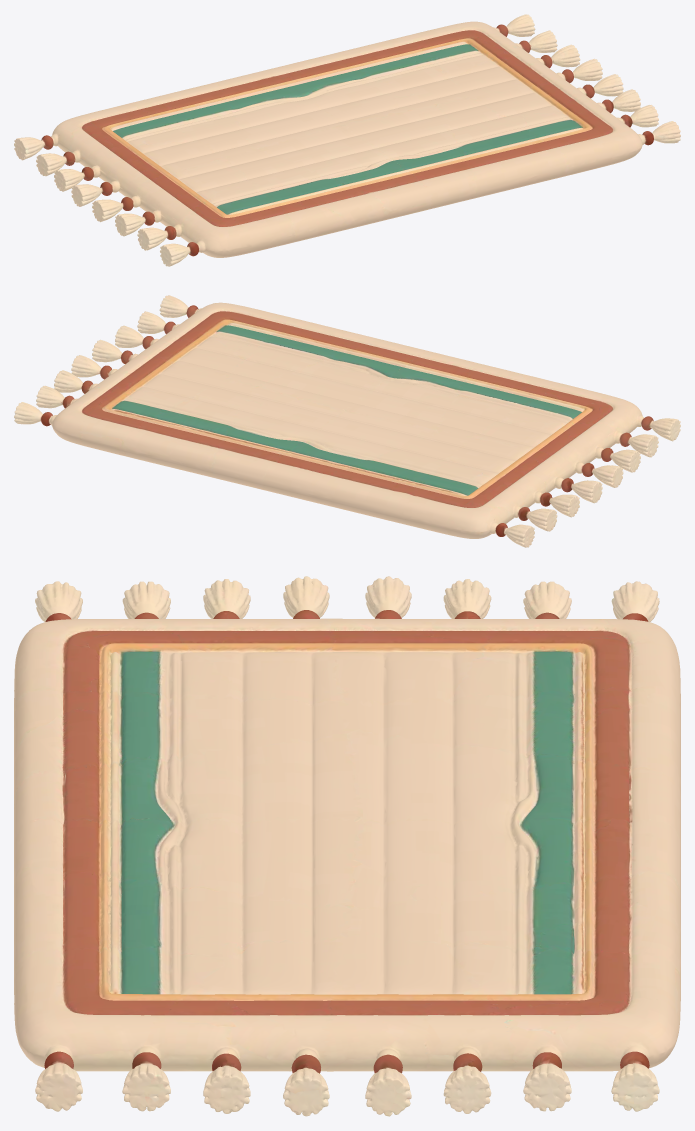
The model's file is prayer-rug-variant-08-cream-scalloped-mihrab.glb.
The picture shows the model from 3 angles, top to bottom: view 1: azimuth 30°, elevation 25°; view 2: azimuth 150°, elevation 25°; view 3: azimuth 270°, elevation 25°; orthographic projection. The views are drawn at different scales.
Parts seen in each view (by area): view 1: mesh_node; view 2: mesh_node; view 3: mesh_node.
Boxes of the visible parts, <box> form: mesh_node: <box>14,14,680,266</box>; mesh_node: <box>14,295,680,547</box>; mesh_node: <box>14,576,680,1116</box>.
Size of the model in its own units: 1.9 by 0.0918 by 1.07.
1 material, 1 textured.
